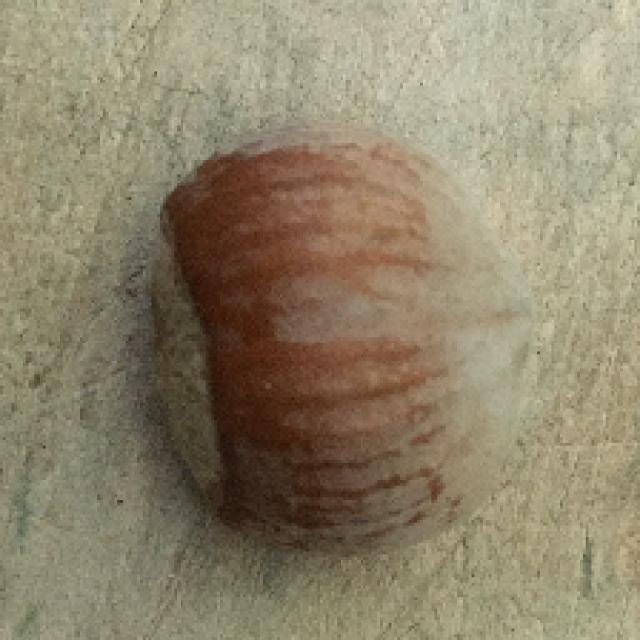QualityHazelnut: (143, 128, 545, 556)
